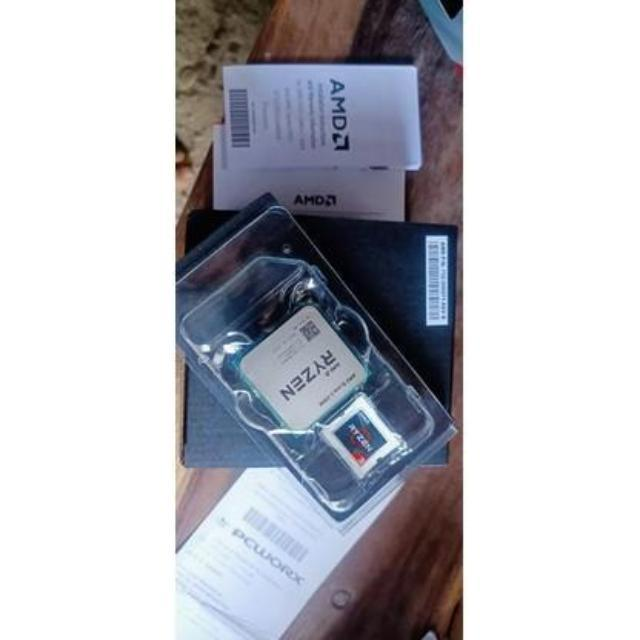CPU: (235, 298, 372, 434)
